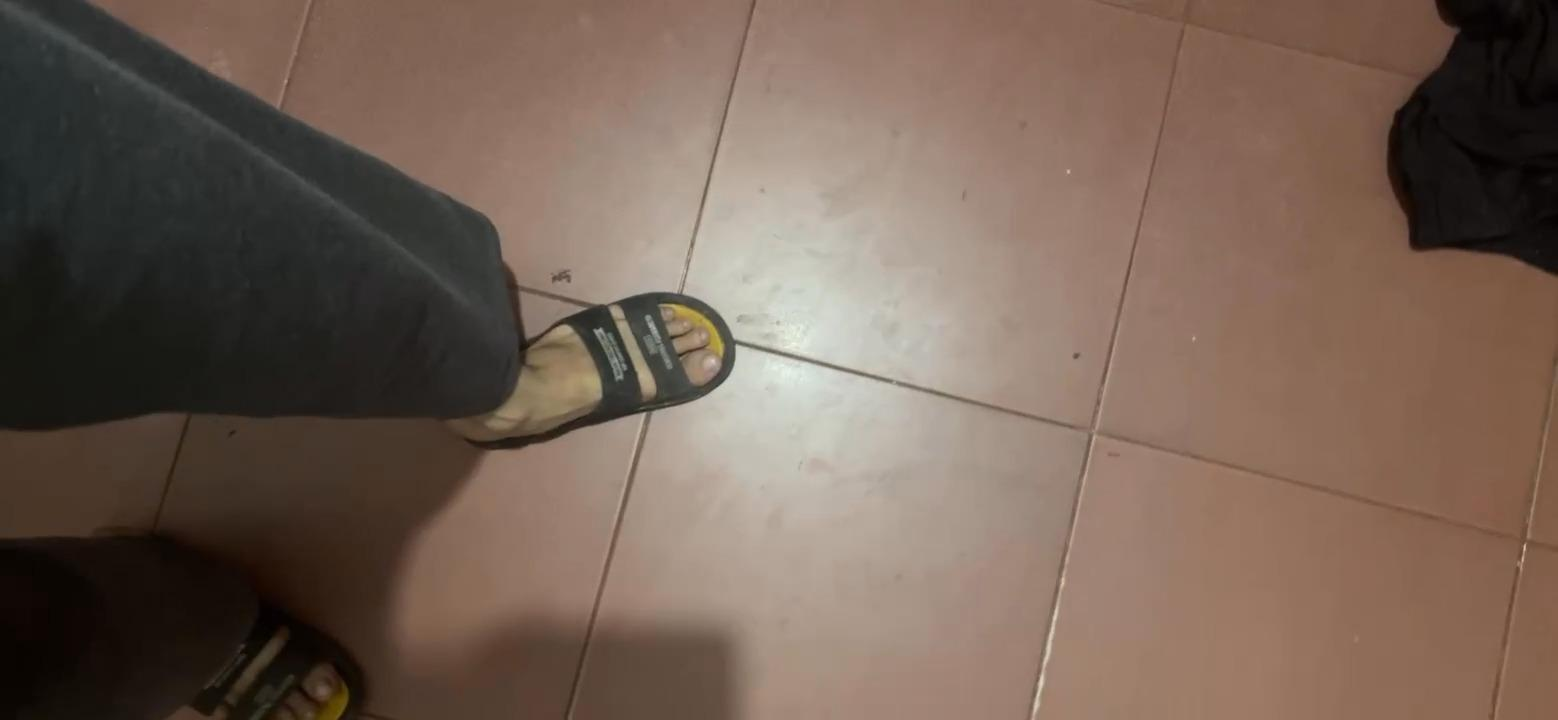no-boot: (455, 281, 735, 437), (153, 593, 375, 720)
